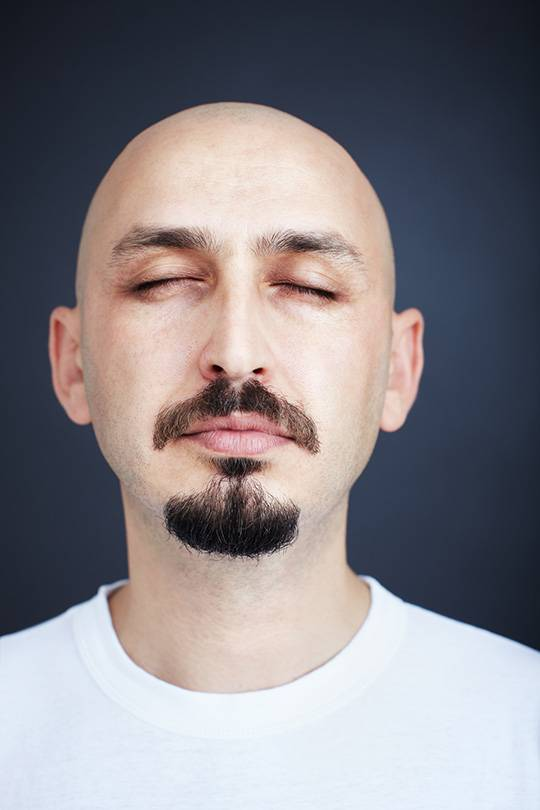beard: (149, 382, 328, 564)
